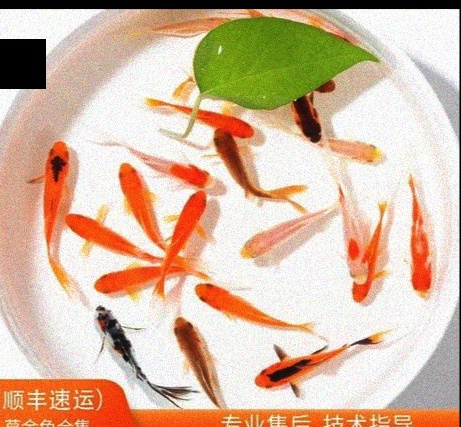fry: (239, 335, 378, 400), (187, 271, 305, 338), (24, 129, 74, 286), (90, 300, 159, 392), (398, 181, 448, 307), (211, 127, 281, 209), (162, 189, 219, 274), (168, 308, 220, 401), (237, 210, 323, 263), (108, 153, 159, 240), (329, 185, 372, 288), (167, 96, 257, 141), (133, 146, 218, 193), (62, 208, 136, 259), (349, 211, 388, 307), (138, 11, 238, 46), (311, 128, 390, 167), (85, 264, 174, 298), (279, 89, 326, 148)
